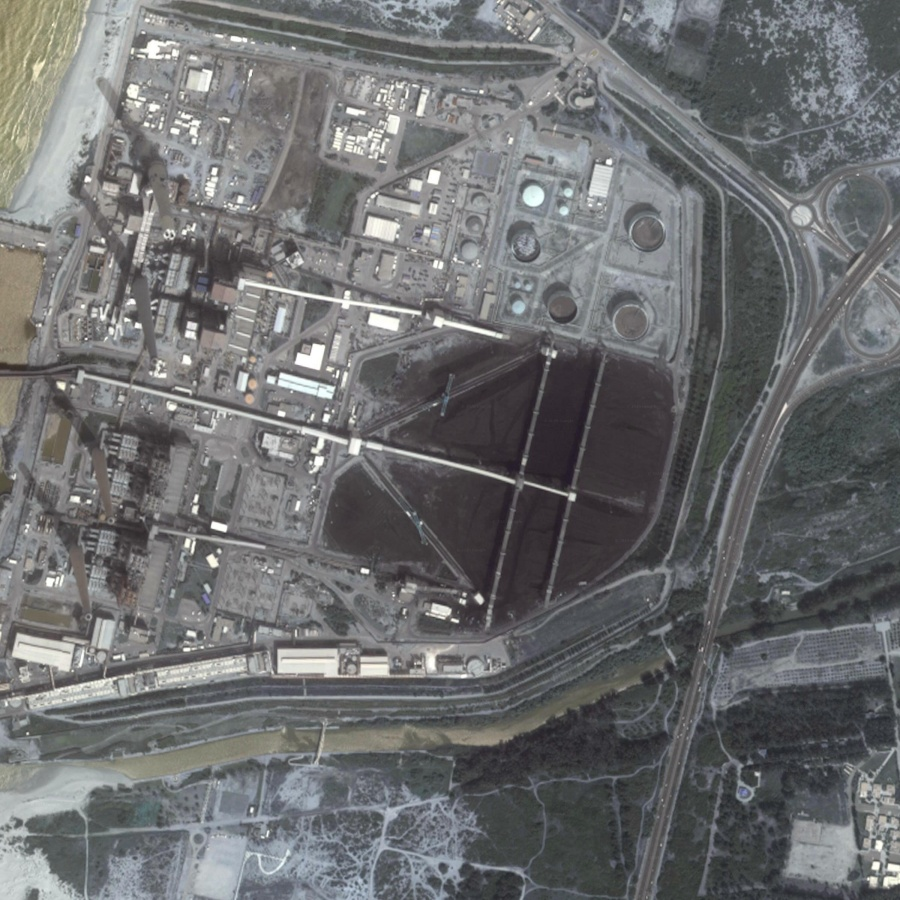PowerPlant: (318, 216, 679, 612)
